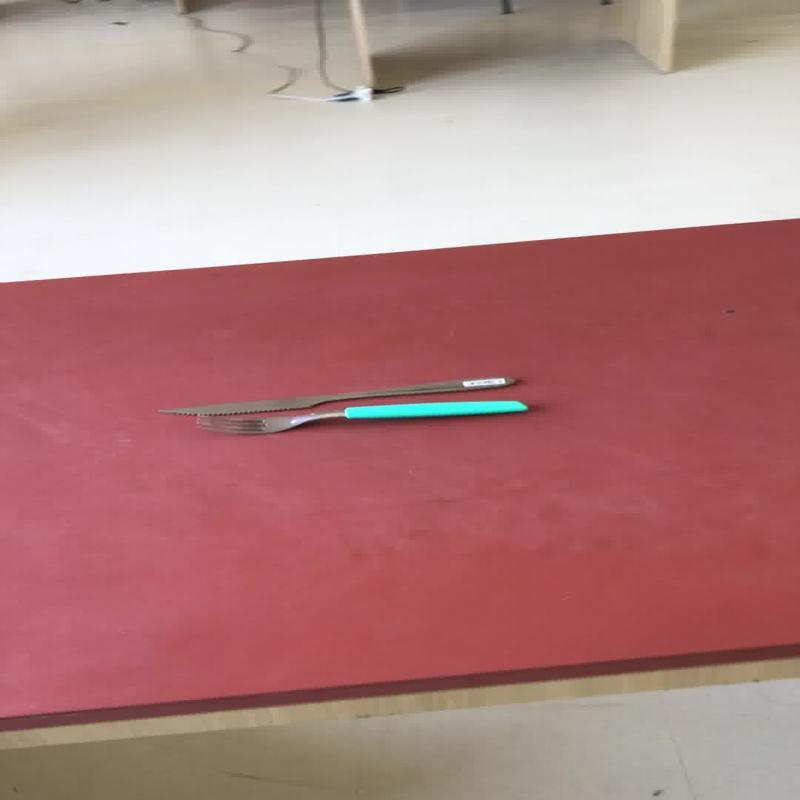fork: (194, 398, 529, 434)
knife: (154, 374, 519, 416)
